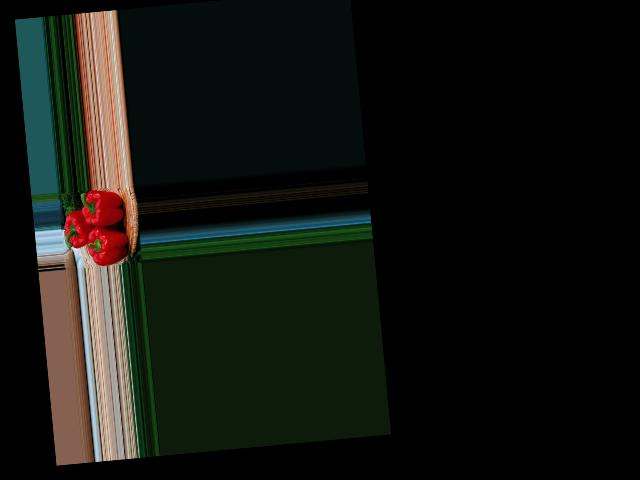bell_pepper: (79, 187, 130, 233)
